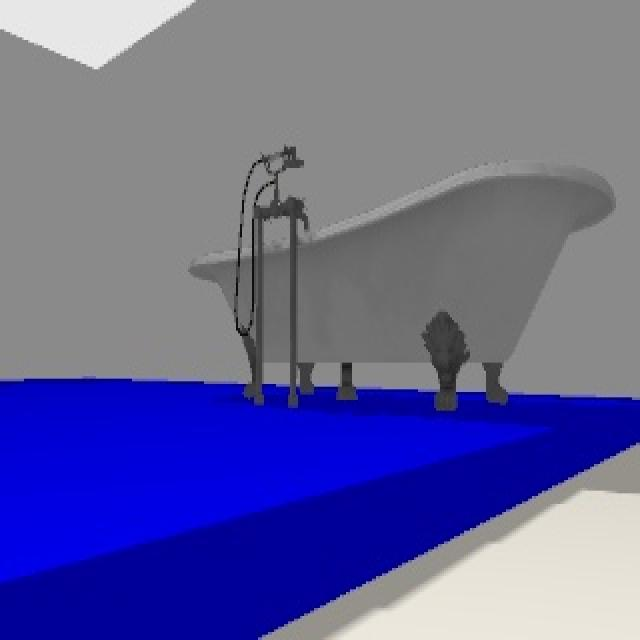bathtub: (190, 146, 603, 411)
